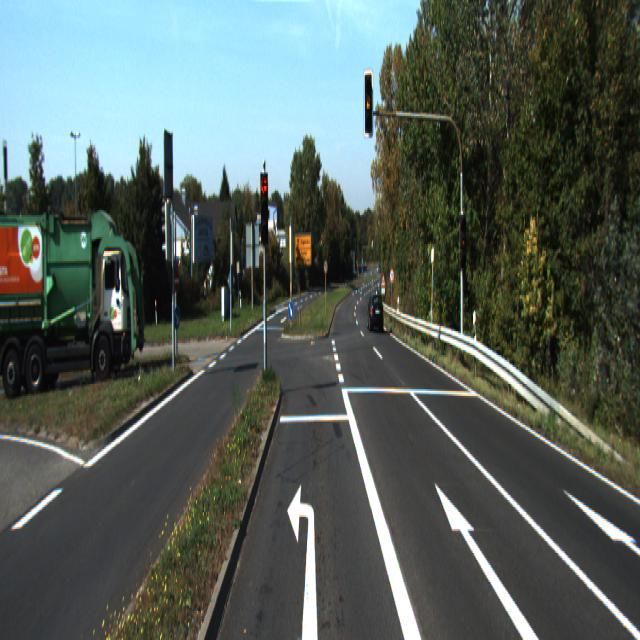Car: (0, 216, 146, 398), (367, 292, 384, 331)
